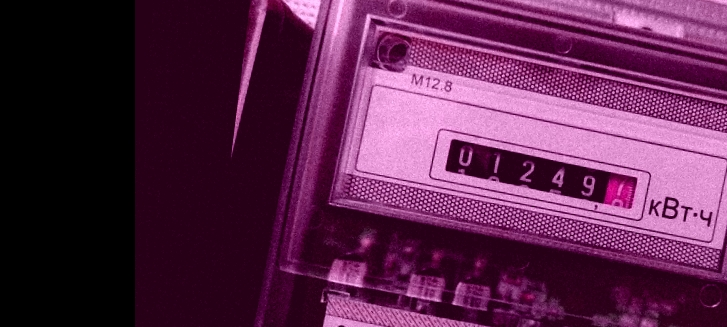0: (456, 141, 477, 169)
1: (488, 148, 505, 175)
2: (517, 157, 537, 185)
4: (550, 162, 569, 189)
7: (613, 171, 631, 199)
9: (578, 171, 598, 199)
screen: (425, 125, 657, 225)
